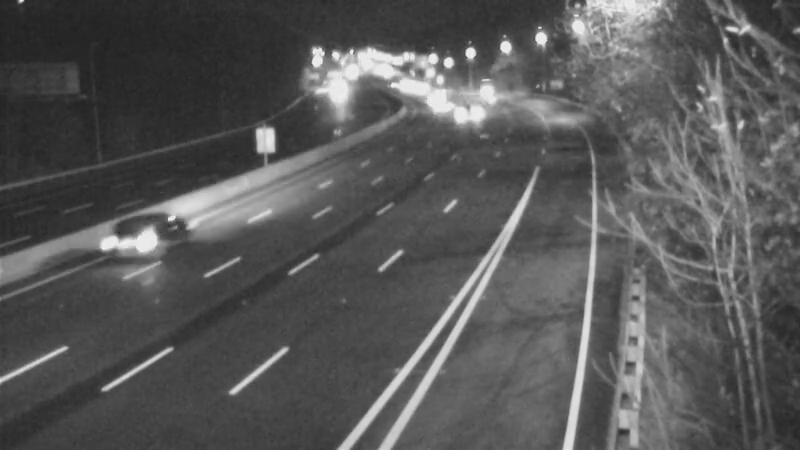vehicle: (99, 203, 179, 283), (466, 67, 516, 117), (406, 74, 456, 124), (420, 85, 470, 135), (444, 90, 494, 140)
